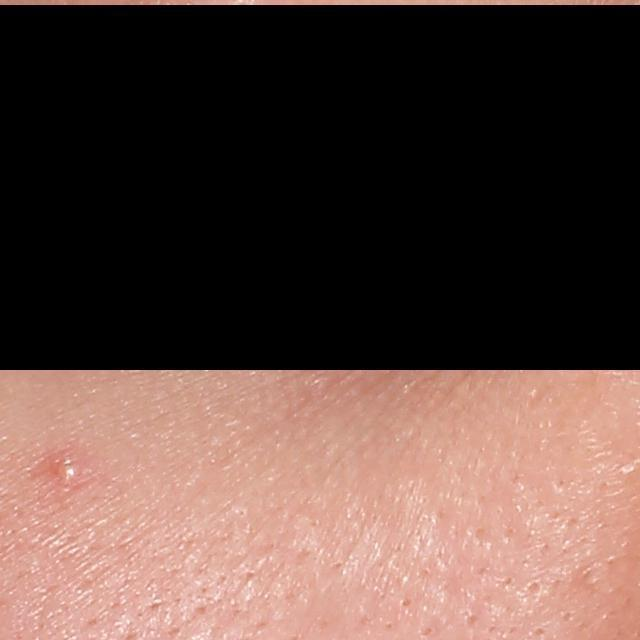pustule: (48, 449, 79, 481)
